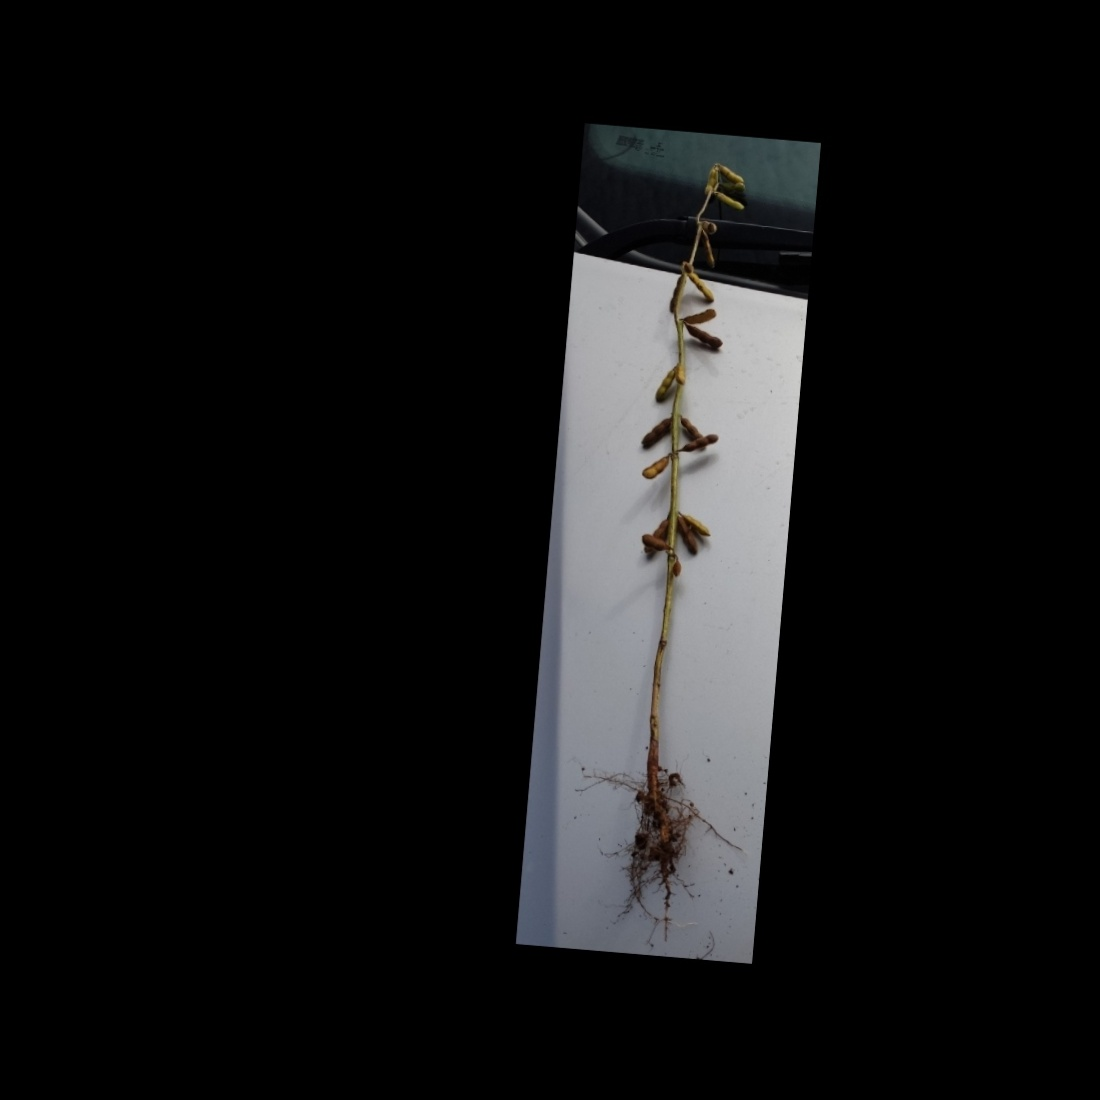pod: (678, 267, 718, 306), (677, 320, 727, 351), (671, 513, 703, 558), (638, 411, 674, 449), (676, 427, 721, 457), (651, 362, 679, 408), (693, 226, 719, 270), (674, 511, 714, 538), (709, 161, 748, 187), (638, 453, 674, 482), (708, 188, 747, 212)
soy: (590, 150, 789, 897)
